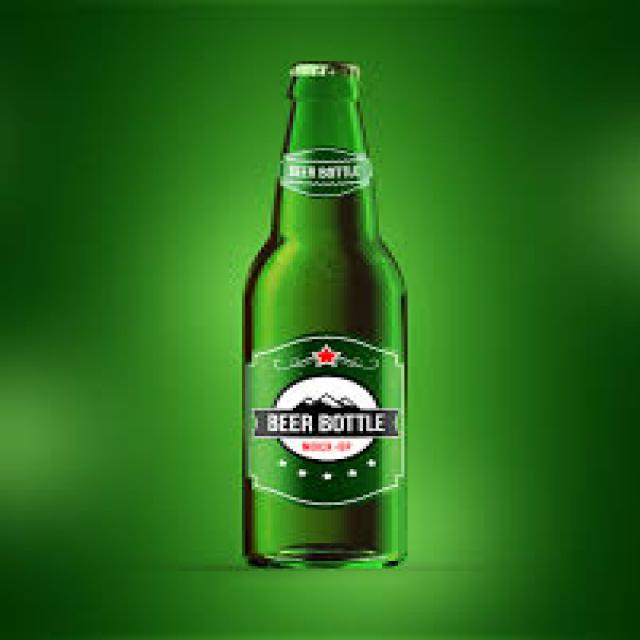glass: (239, 74, 404, 563)
metal: (287, 59, 350, 74)
